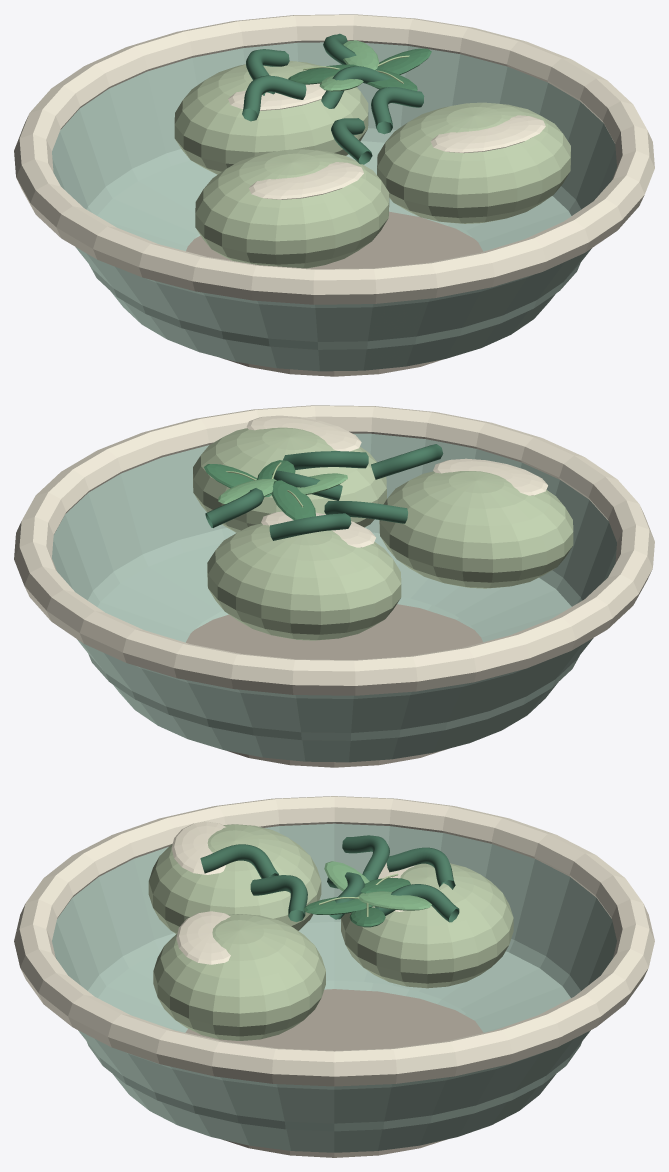
Rendered from mixed_seaweed_dough.glb.
3 renders of one model, top to bottom at view 1: azimuth 30°, elevation 25°; view 2: azimuth 150°, elevation 25°; view 3: azimuth 270°, elevation 25°, orthographic.
Visible parts, largest first — view 1: seaweed_dough_transfer_bowl_hollow_profile, seaweed_dough_transfer_bowl_rolled_lip, dough_portion_1, dough_portion_0, dough_portion_2, seaweed_dough_transfer_bowl_foot_ring, dough_fold_face_1, dough_fold_face_0, seaweed_filling_strand_1, seaweed_filling_strand_2, seaweed_filling_strand_4, dough_fold_face_2 (+6 smaller); view 2: seaweed_dough_transfer_bowl_hollow_profile, seaweed_dough_transfer_bowl_rolled_lip, dough_portion_0, dough_portion_2, seaweed_dough_transfer_bowl_foot_ring, dough_portion_1, dough_fold_face_1, dough_fold_face_0, seaweed_filling_strand_3, seaweed_filling_strand_2, seaweed_filling_strand_1, seaweed_filling_strand_4 (+7 smaller); view 3: seaweed_dough_transfer_bowl_hollow_profile, seaweed_dough_transfer_bowl_rolled_lip, dough_portion_1, dough_portion_2, seaweed_dough_transfer_bowl_foot_ring, dough_portion_0, dough_fold_face_1, dough_fold_face_0, seaweed_filling_strand_4, seaweed_filling_strand_2, seaweed_filling_strand_3, seaweed_filling_strand_1 (+7 smaller).
Part boxes in pixels (left/top/right/bottom): seaweed_dough_transfer_bowl_hollow_profile: left=52, top=42, right=616, bottom=371; seaweed_dough_transfer_bowl_rolled_lip: left=14, top=14, right=654, bottom=304; dough_portion_1: left=377, top=102, right=570, bottom=223; dough_portion_0: left=195, top=149, right=389, bottom=268; dough_portion_2: left=174, top=61, right=368, bottom=174; seaweed_dough_transfer_bowl_foot_ring: left=186, top=211, right=482, bottom=376; dough_fold_face_1: left=430, top=115, right=545, bottom=153; dough_fold_face_0: left=249, top=162, right=363, bottom=199; seaweed_filling_strand_1: left=242, top=75, right=306, bottom=121; seaweed_filling_strand_2: left=371, top=87, right=424, bottom=134; seaweed_filling_strand_4: left=331, top=118, right=372, bottom=164; dough_fold_face_2: left=228, top=83, right=325, bottom=110; seaweed_dough_transfer_bowl_hollow_profile: left=52, top=433, right=616, bottom=762; seaweed_dough_transfer_bowl_rolled_lip: left=14, top=405, right=654, bottom=695; dough_portion_0: left=379, top=471, right=573, bottom=588; dough_portion_2: left=207, top=523, right=401, bottom=640; seaweed_dough_transfer_bowl_foot_ring: left=186, top=604, right=482, bottom=767; dough_portion_1: left=193, top=427, right=386, bottom=532; dough_fold_face_1: left=246, top=415, right=361, bottom=451; dough_fold_face_0: left=433, top=458, right=547, bottom=495; seaweed_filling_strand_3: left=269, top=513, right=351, bottom=540; seaweed_filling_strand_2: left=283, top=451, right=368, bottom=469; seaweed_filling_strand_1: left=324, top=501, right=407, bottom=523; seaweed_filling_strand_4: left=371, top=444, right=443, bottom=479; seaweed_dough_transfer_bowl_hollow_profile: left=52, top=823, right=616, bottom=1152; seaweed_dough_transfer_bowl_rolled_lip: left=14, top=796, right=654, bottom=1086; dough_portion_1: left=153, top=914, right=325, bottom=1040; dough_portion_2: left=341, top=863, right=513, bottom=988; seaweed_dough_transfer_bowl_foot_ring: left=185, top=989, right=483, bottom=1157; dough_portion_0: left=148, top=824, right=321, bottom=934; dough_fold_face_1: left=176, top=911, right=230, bottom=964; dough_fold_face_0: left=171, top=821, right=225, bottom=874; seaweed_filling_strand_4: left=200, top=844, right=278, bottom=878; seaweed_filling_strand_2: left=250, top=875, right=307, bottom=921; seaweed_filling_strand_3: left=386, top=847, right=455, bottom=889; seaweed_filling_strand_1: left=342, top=835, right=389, bottom=880.
Bounding box in the file's own units: 0.6765 × 0.258 × 0.6765.
